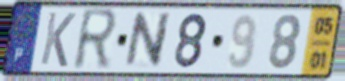8: (268, 12, 304, 71), (173, 12, 208, 71)
9: (227, 13, 261, 71)
K: (38, 10, 78, 69)
N: (122, 11, 174, 71)
R: (71, 6, 121, 74)
